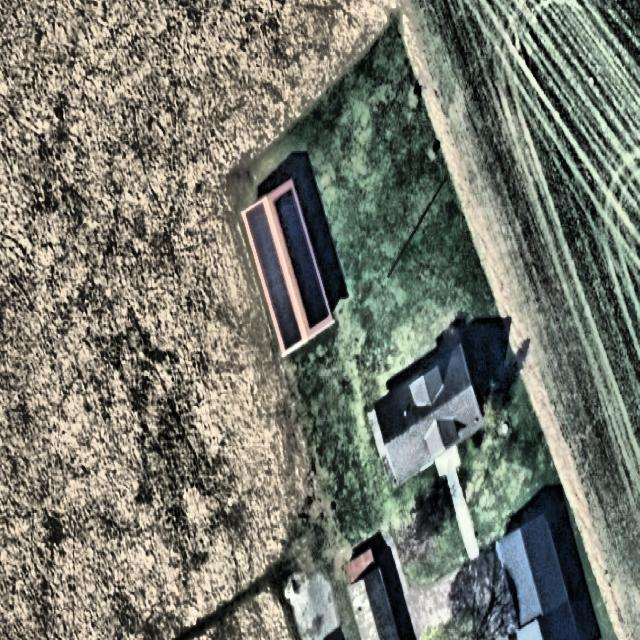roof_pv: (288, 252, 334, 331), (272, 185, 313, 253), (268, 289, 304, 352), (253, 246, 291, 291), (243, 203, 275, 245)
